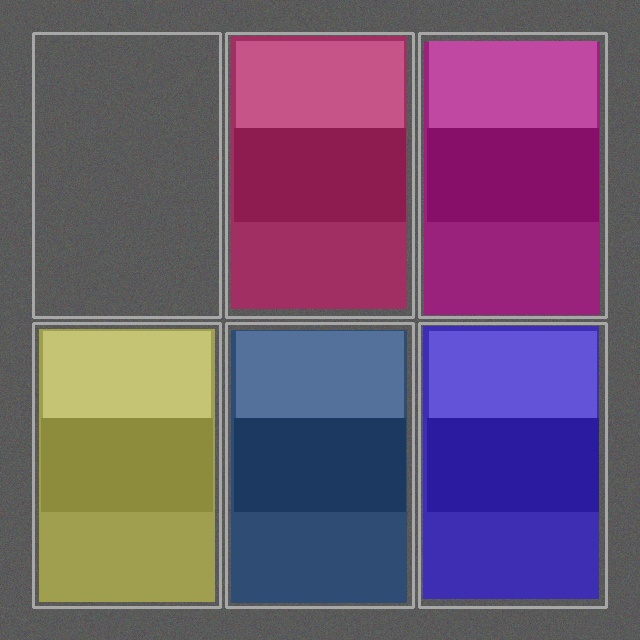space-empty: (35, 35, 218, 315)
space-occupied: (228, 35, 411, 315), (421, 35, 604, 315), (35, 325, 218, 605), (228, 325, 411, 605), (421, 325, 604, 605)
